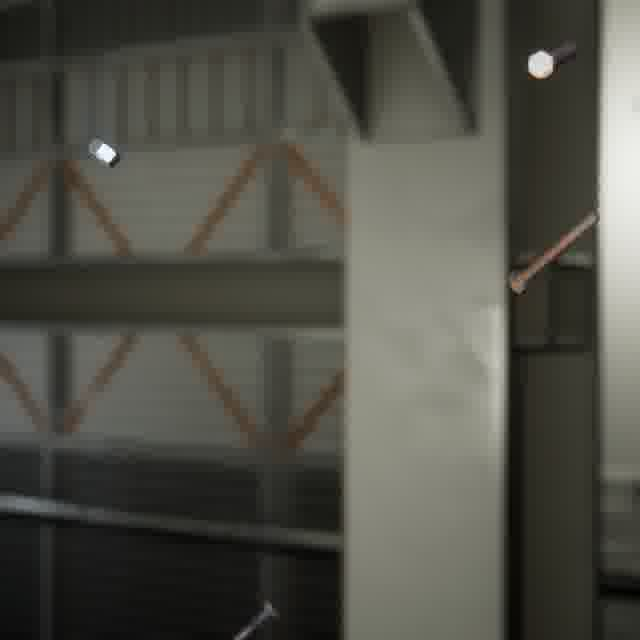bolt: (502, 206, 604, 298), (523, 38, 583, 84), (227, 594, 285, 640)
nut: (83, 133, 125, 171)
